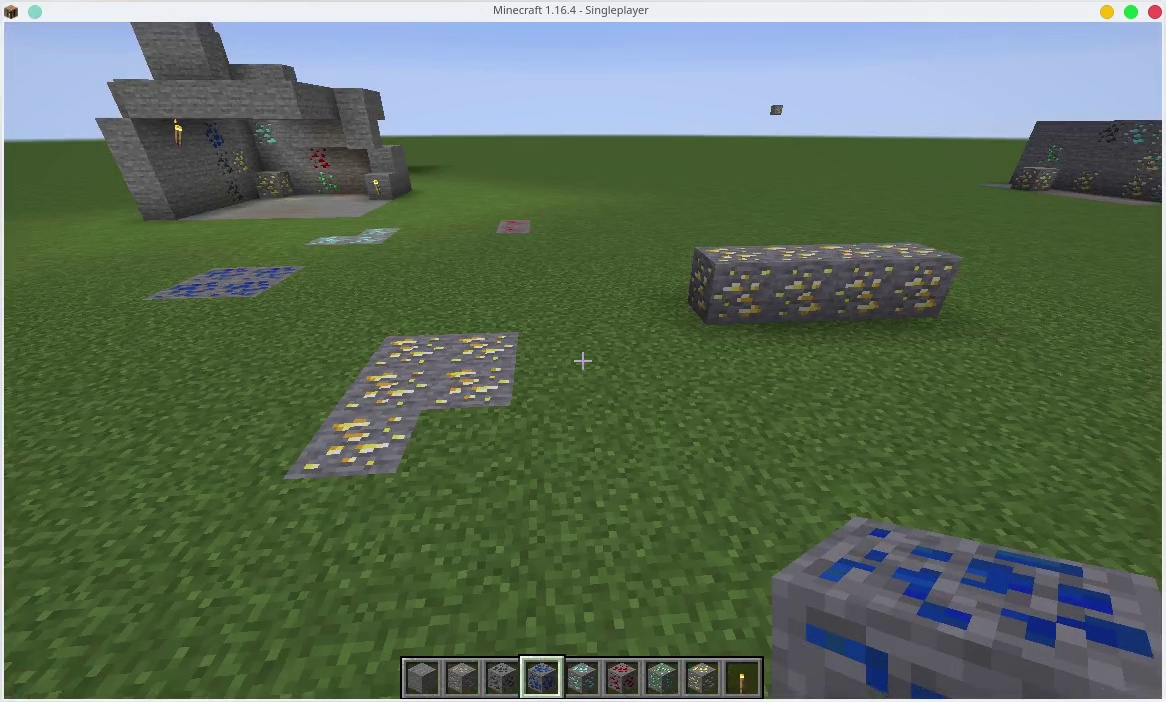gold: (692, 239, 777, 319), (312, 412, 400, 471), (834, 240, 890, 319), (775, 248, 829, 322), (888, 240, 943, 311), (439, 368, 511, 407), (457, 331, 516, 372), (363, 367, 418, 408), (394, 328, 442, 368), (260, 165, 296, 203), (687, 664, 718, 692), (1023, 167, 1056, 190), (1123, 173, 1147, 200), (1074, 174, 1099, 195), (234, 148, 250, 179), (1143, 152, 1161, 175)
